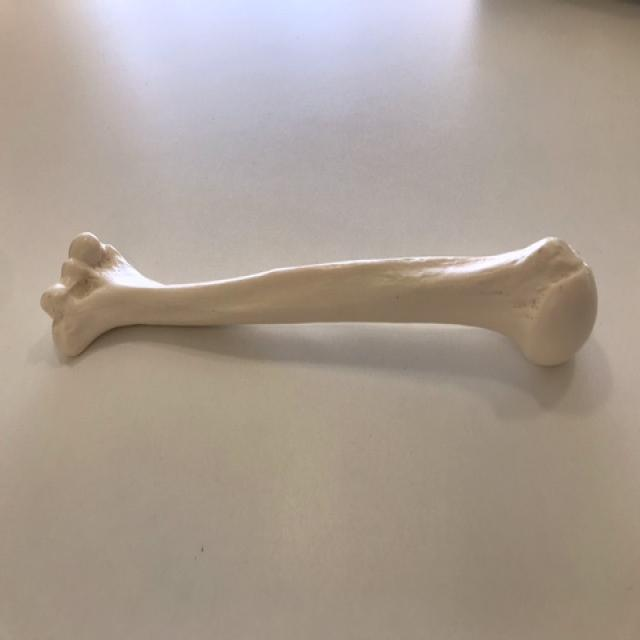bone: (39, 227, 604, 371)
